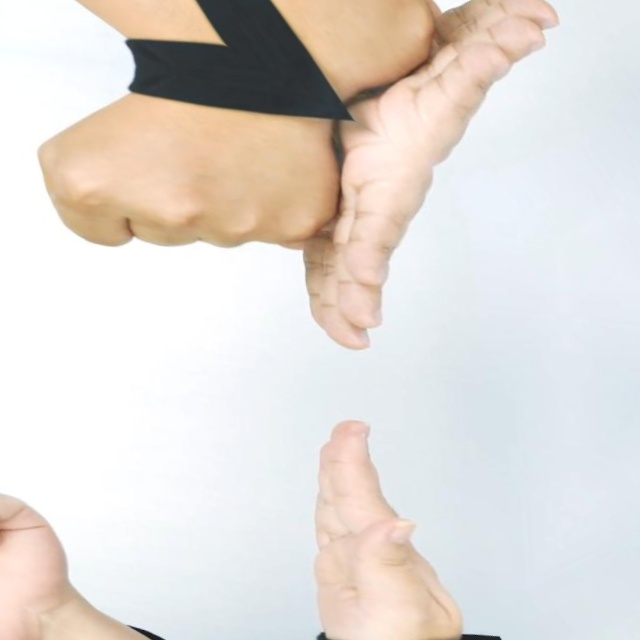Rock: (98, 0, 554, 155), (0, 0, 20, 151)
